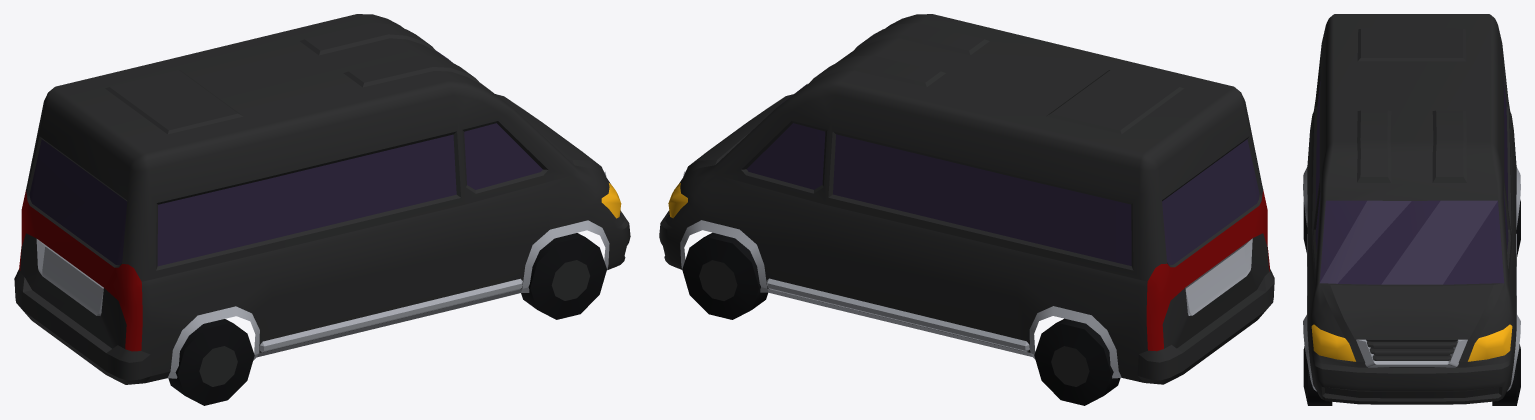
The model's file is Vipcar_2.fbx.
3 renders of one model, left to right at view 1: azimuth 30°, elevation 25°; view 2: azimuth 150°, elevation 25°; view 3: azimuth 270°, elevation 25°, orthographic. The views are drawn at different scales.
Parts seen in each view (by area): view 1: Vipcar_2, Lightmesh_1; view 2: Vipcar_2, Lightmesh_1; view 3: Vipcar_2, Lightmesh_2.
Boxes of the visible parts, left/top/right/bottom form: Vipcar_2: left=14, top=14, right=630, bottom=405; Lightmesh_1: left=19, top=190, right=142, bottom=351; Vipcar_2: left=659, top=14, right=1274, bottom=405; Lightmesh_1: left=1146, top=190, right=1269, bottom=351; Vipcar_2: left=1303, top=14, right=1520, bottom=405; Lightmesh_2: left=1311, top=324, right=1512, bottom=361.
Size of the model in its own units: 23.03 by 10.67 by 9.67.
